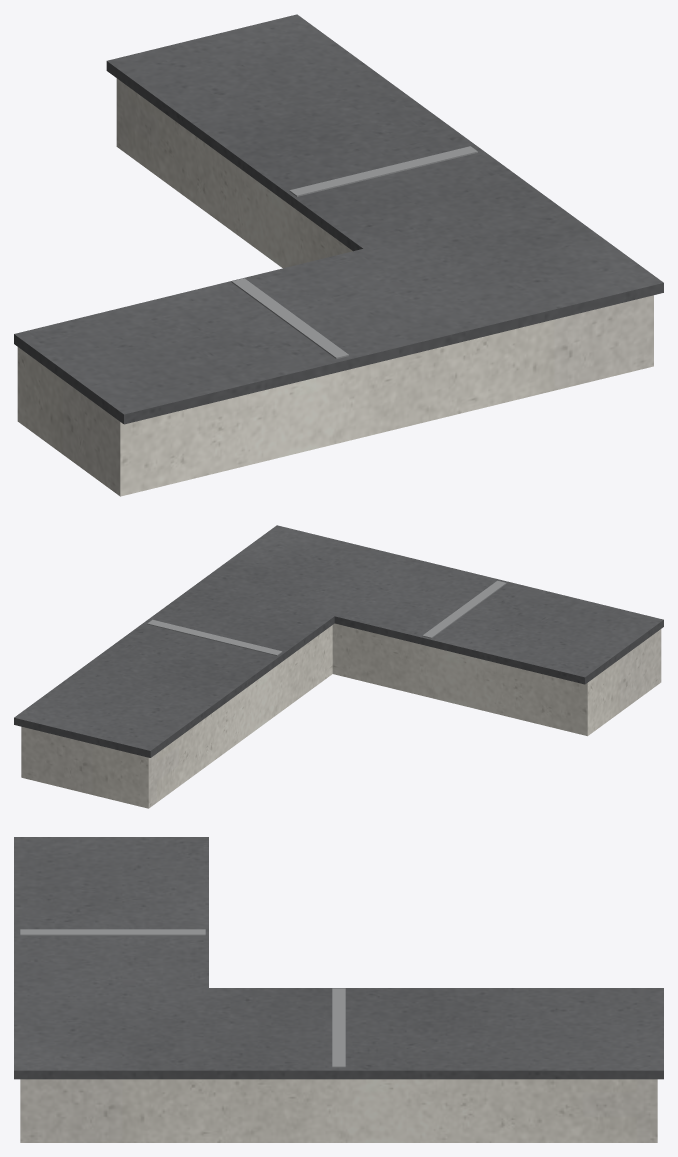
The model's file is floor_membrane_r_e1000_h2.glb.
3 views of the same model, one above another, from view 1: azimuth 30°, elevation 25°; view 2: azimuth 150°, elevation 25°; view 3: azimuth 270°, elevation 25° (orthographic). The views are drawn at different scales.
Parts seen in each view (by area): view 1: floor_membrane_r_e1000_h2_membrane, floor_membrane_r_e1000_h2_plaster, floor_membrane_r_e1000_h2_seam; view 2: floor_membrane_r_e1000_h2_membrane, floor_membrane_r_e1000_h2_plaster, floor_membrane_r_e1000_h2_seam; view 3: floor_membrane_r_e1000_h2_membrane, floor_membrane_r_e1000_h2_plaster, floor_membrane_r_e1000_h2_seam.
Boxes of the visible parts, left/top/right/bottom form: floor_membrane_r_e1000_h2_membrane: left=14, top=14, right=663, bottom=424; floor_membrane_r_e1000_h2_plaster: left=17, top=78, right=653, bottom=496; floor_membrane_r_e1000_h2_seam: left=231, top=146, right=477, bottom=358; floor_membrane_r_e1000_h2_membrane: left=14, top=525, right=663, bottom=757; floor_membrane_r_e1000_h2_plaster: left=21, top=623, right=661, bottom=808; floor_membrane_r_e1000_h2_seam: left=147, top=580, right=506, bottom=655; floor_membrane_r_e1000_h2_membrane: left=14, top=837, right=663, bottom=1079; floor_membrane_r_e1000_h2_plaster: left=20, top=1079, right=657, bottom=1142; floor_membrane_r_e1000_h2_seam: left=20, top=929, right=345, bottom=1067.
Size of the model in its own units: 1.7 by 0.259 by 2.
Materials: 3 (2 with a texture image).
